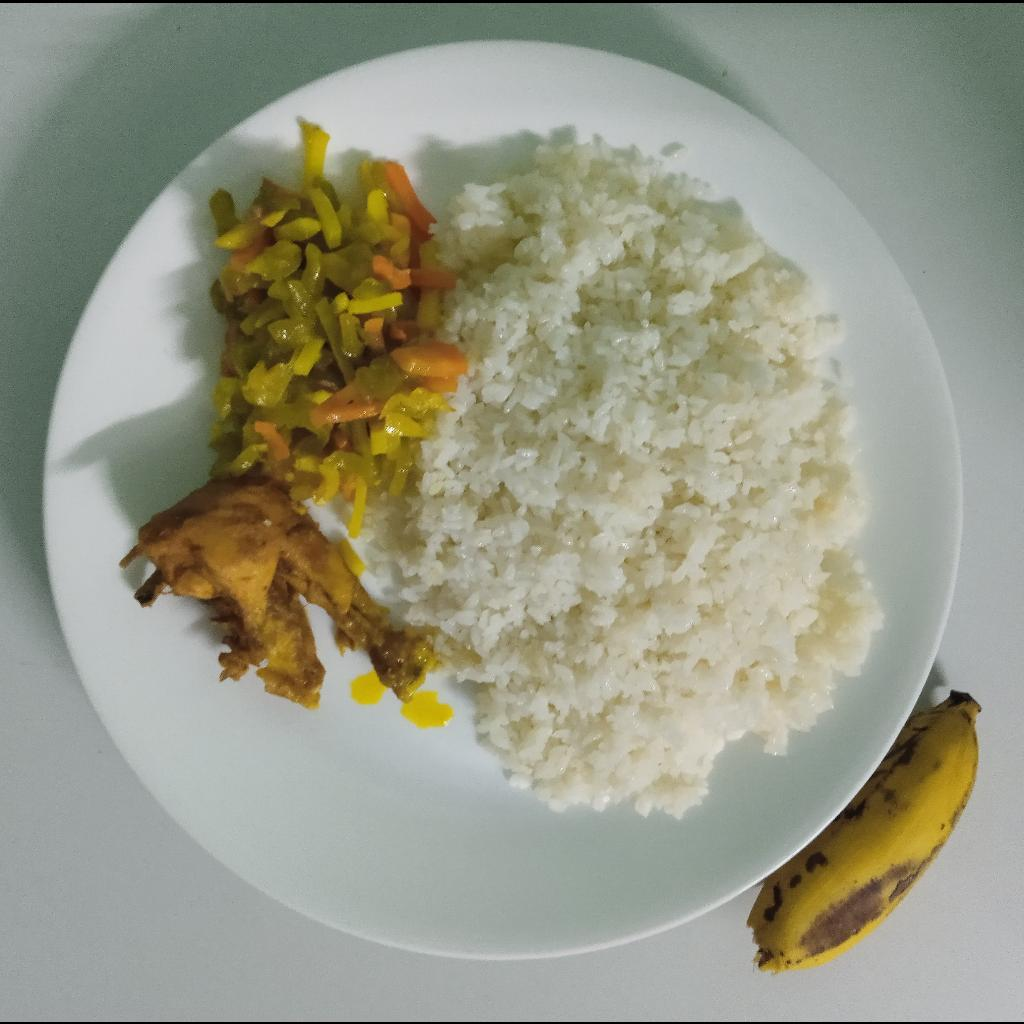banana: (748, 689, 982, 973)
chicken: (116, 472, 435, 711)
rice: (374, 142, 884, 817)
vegetable: (209, 123, 468, 538)
